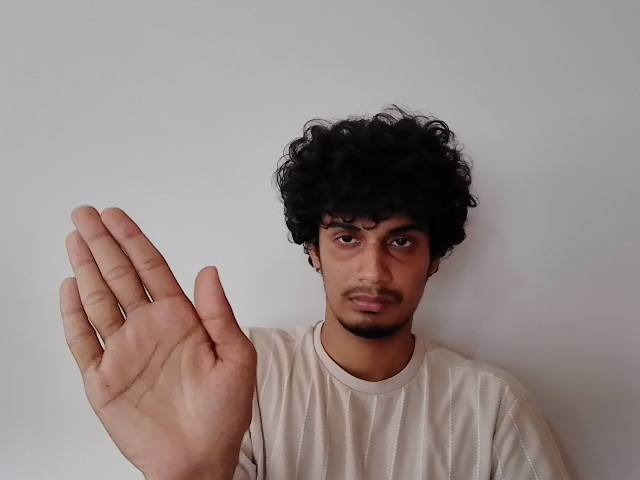hello: (57, 201, 269, 464)
